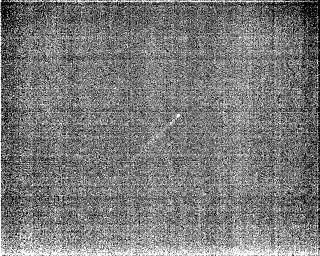AIRPLANE: (126, 114, 182, 155)
